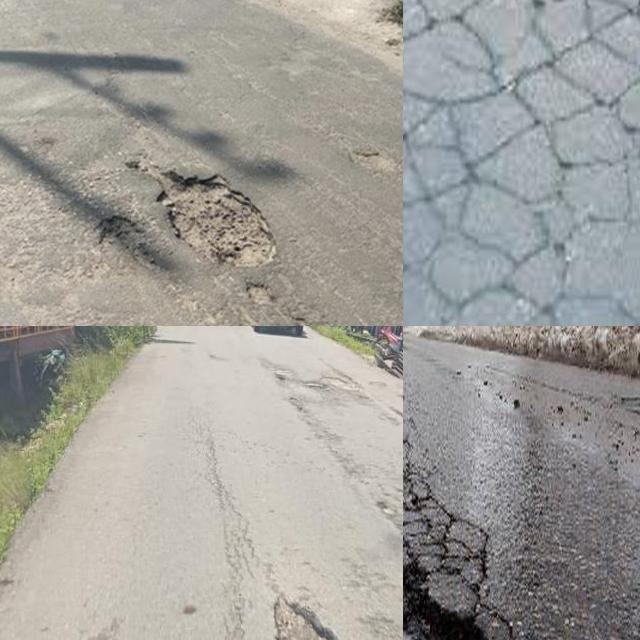Lubang: (141, 159, 272, 260), (275, 600, 330, 640)
Retak Buaya: (403, 0, 640, 326), (403, 444, 487, 614)
